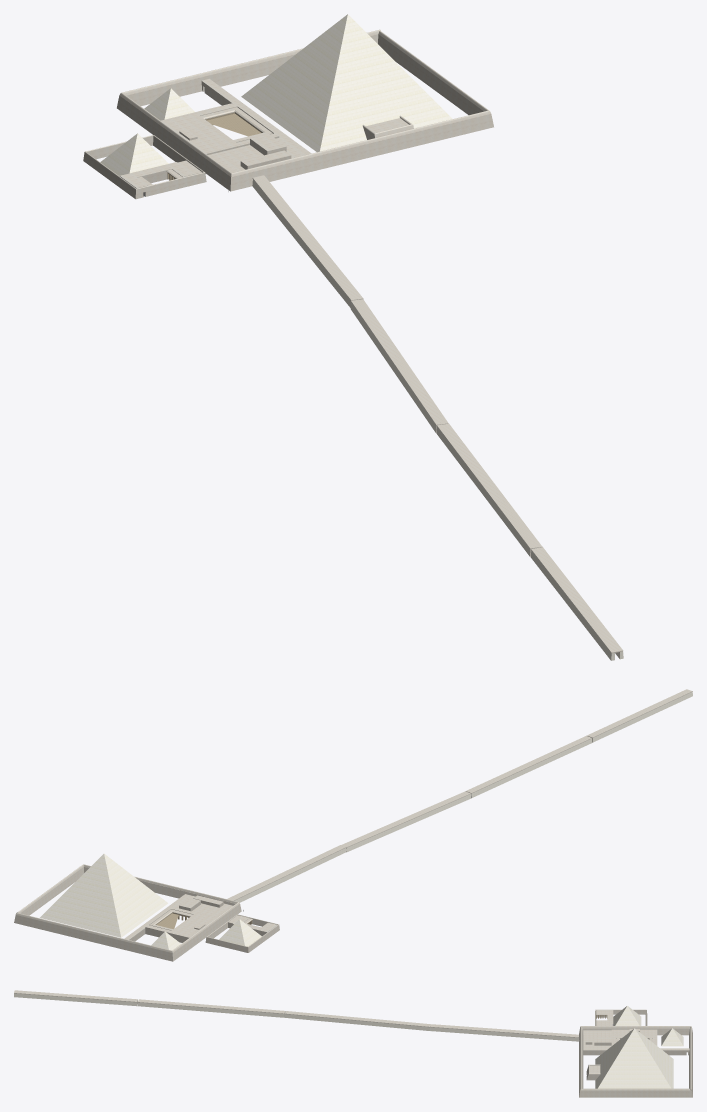
The model's file is Userkaf_Pyramid.obj.
3 renders of one model, top to bottom at view 1: azimuth 30°, elevation 25°; view 2: azimuth 150°, elevation 25°; view 3: azimuth 270°, elevation 25°, orthographic. The views are drawn at different scales.
Parts seen in each view (by area): view 1: Mesh2 Model, Mesh1 Model, Mesh4 Model, Mesh10 Model, Mesh5 Model, Mesh12 Model, Mesh6 Model; view 2: Mesh2 Model, Mesh1 Model, Mesh4 Model, Mesh12 Model, Mesh5 Model, Mesh10 Model, Mesh6 Model; view 3: Mesh1 Model, Mesh2 Model, Mesh4 Model, Mesh9 Model, Mesh11 Model, Mesh8 Model, Mesh10 Model, Mesh5 Model, Mesh12 Model, Mesh7 Model, Mesh6 Model, Mesh3 Model.
Boxes of the visible parts, x1,y1,x2,y2 form: Mesh2 Model: (117, 29, 493, 191); Mesh1 Model: (241, 14, 452, 152); Mesh4 Model: (83, 133, 206, 199); Mesh10 Model: (252, 175, 363, 307); Mesh5 Model: (436, 423, 542, 556); Mesh12 Model: (350, 299, 448, 432); Mesh6 Model: (530, 547, 623, 660); Mesh2 Model: (14, 864, 241, 961); Mesh1 Model: (40, 853, 167, 937); Mesh4 Model: (205, 914, 279, 952); Mesh12 Model: (341, 791, 471, 851); Mesh5 Model: (466, 736, 591, 798); Mesh10 Model: (227, 845, 346, 902); Mesh6 Model: (586, 689, 692, 742); Mesh1 Model: (586, 1028, 673, 1088); Mesh2 Model: (579, 1026, 692, 1097); Mesh4 Model: (595, 1006, 647, 1025); Mesh9 Model: (430, 1027, 578, 1041); Mesh11 Model: (137, 1002, 284, 1017); Mesh8 Model: (284, 1014, 430, 1030); Mesh10 Model: (431, 1024, 578, 1037); Mesh5 Model: (138, 999, 285, 1013); Mesh12 Model: (284, 1011, 431, 1027); Mesh7 Model: (14, 993, 137, 1006); Mesh6 Model: (14, 990, 137, 1003); Mesh3 Model: (661, 1028, 683, 1046).
Bounding box in the file's own units: 242 × 54.92 × 636.
11 materials, 8 textured.
